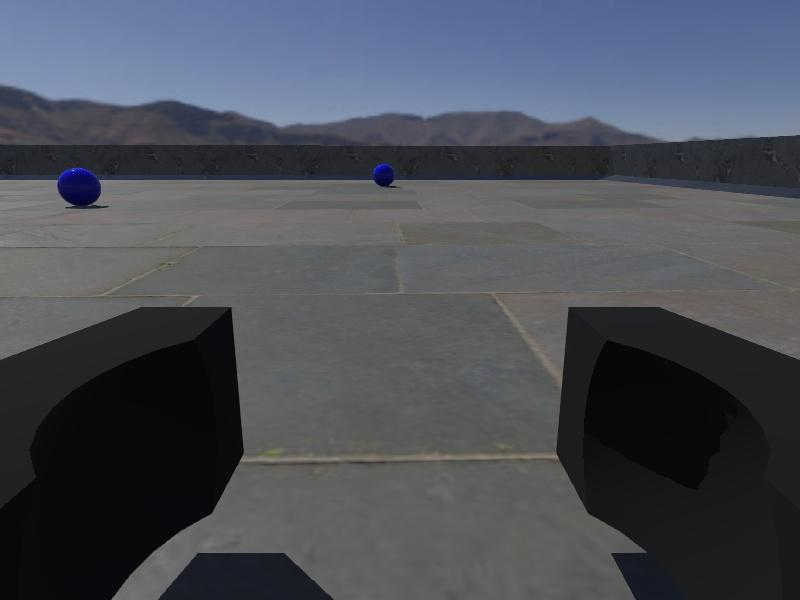blue ball: (56, 167, 101, 206), (372, 162, 395, 188)
